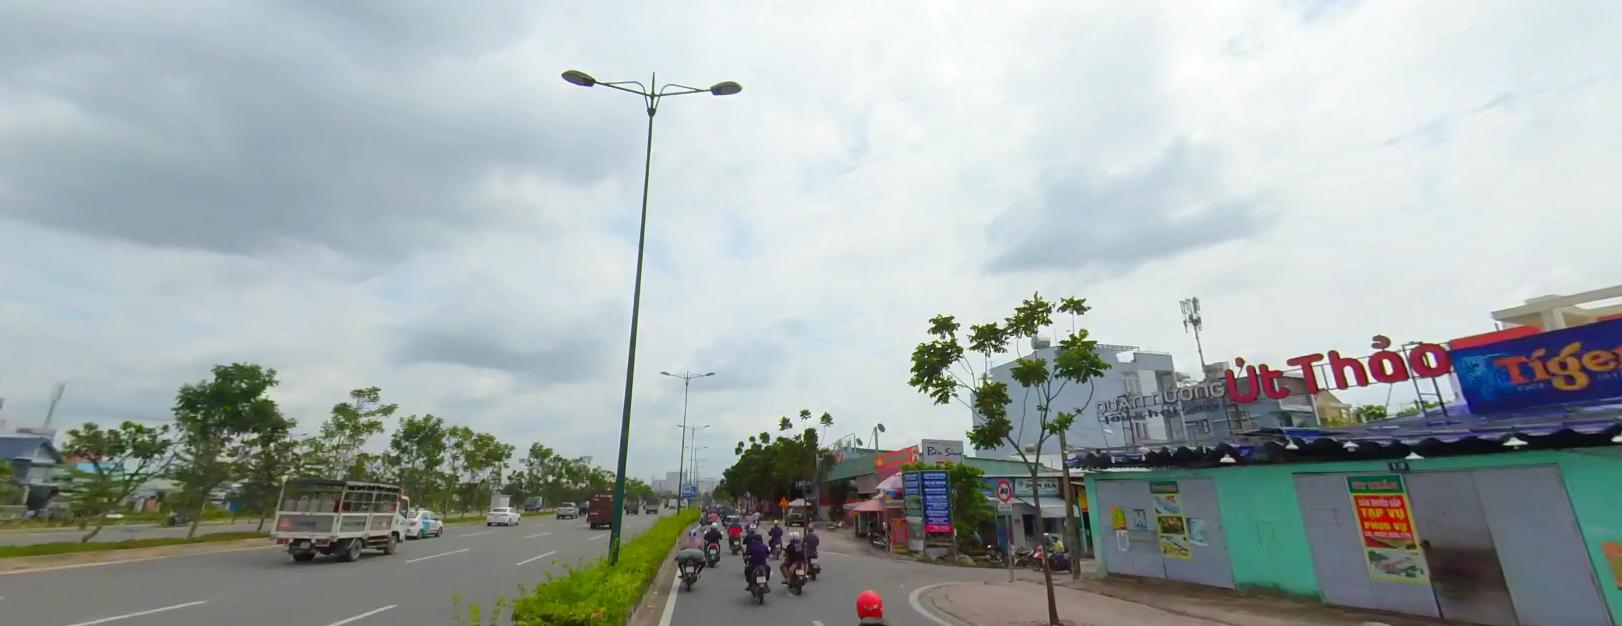Cam con lai: (995, 477, 1012, 501)
Nguy hiem: (776, 494, 788, 504)
